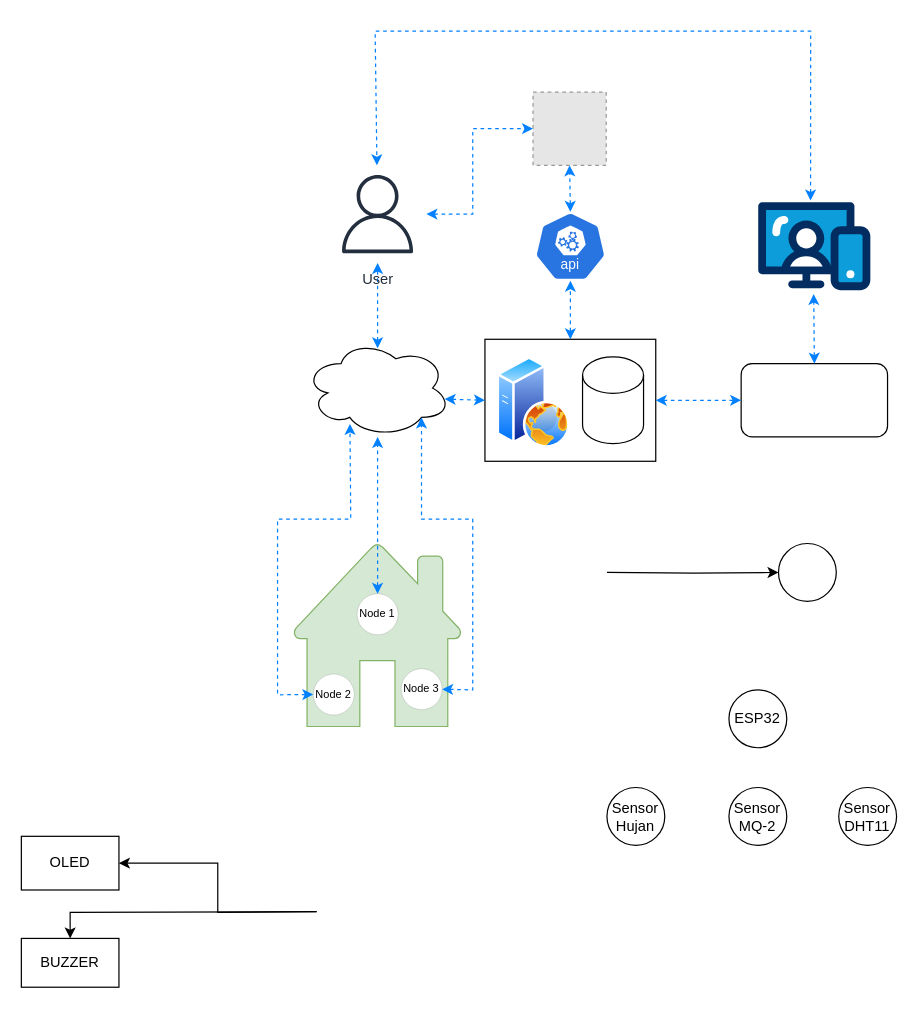
Image size: 919x1009. Some labels were removed from this diagram. Grey dashed boxes stand in for pictures. Here are the shapes that lost their labels. From the top down, the centre of each, then its label:
At (377,387): "Internet".
At (814,399): "Broker MQTT".
At (806,571): "LED RGY".
